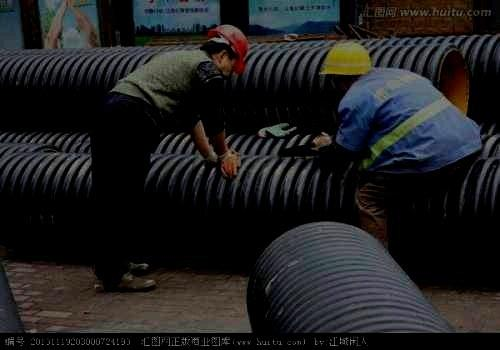helmet: (317, 40, 373, 102), (200, 23, 250, 82)
